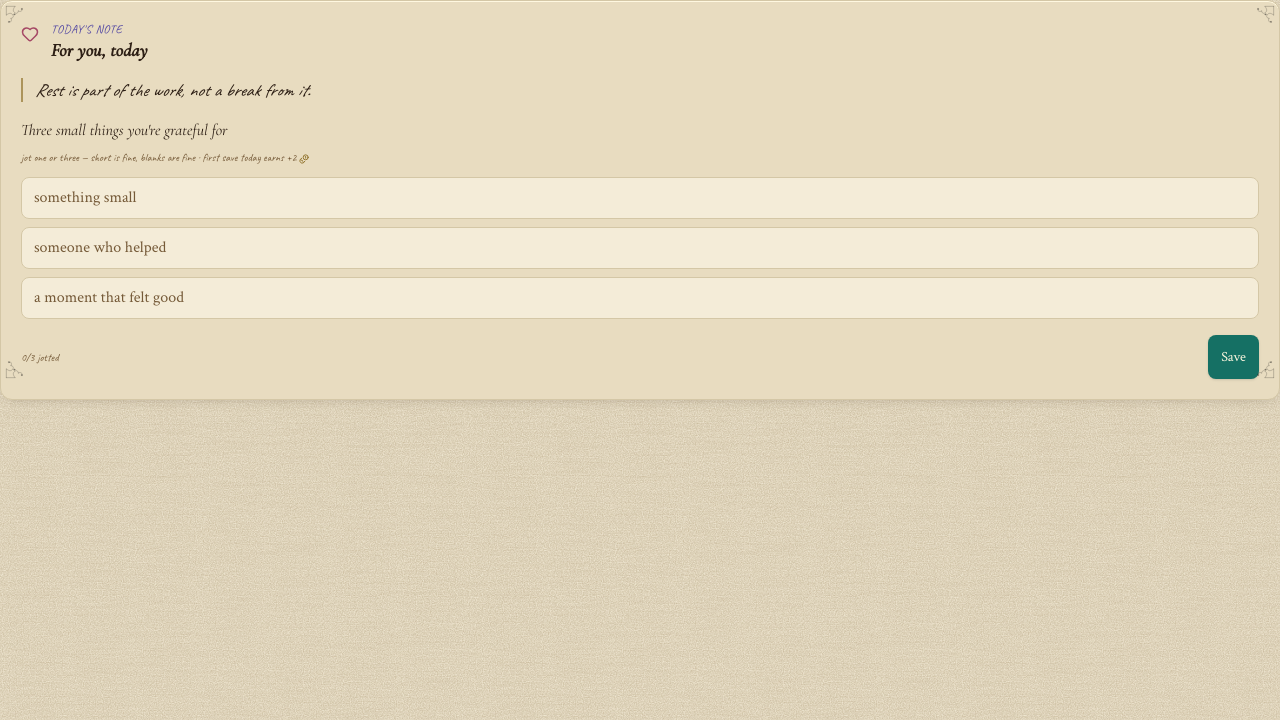
Test: WellbeingCard › Save POSTs the typed gratitude lines and shows a coin chip on first-of-day pay
This screenshot has width=1280, height=720.
Expected: the text "Rest is part of the work, not a break from it." is shown, x1=21 y1=78 x2=1259 y2=102
Type "warm bread" into the field with placeholder "something small". click: [640, 198]
box: x1=21 y1=177 x2=1259 y2=219
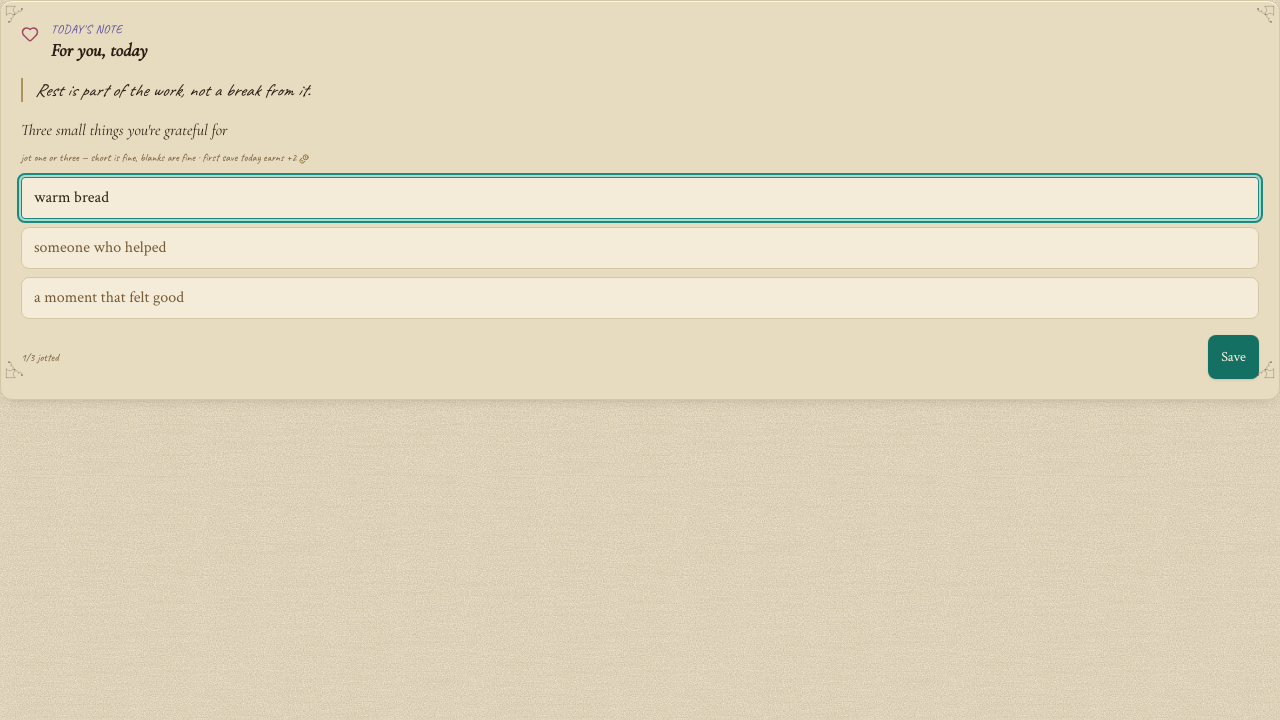
Type "a quiet morning" into the field with placeholder "a moment that felt good". click: [640, 298]
box: x1=21 y1=277 x2=1259 y2=319
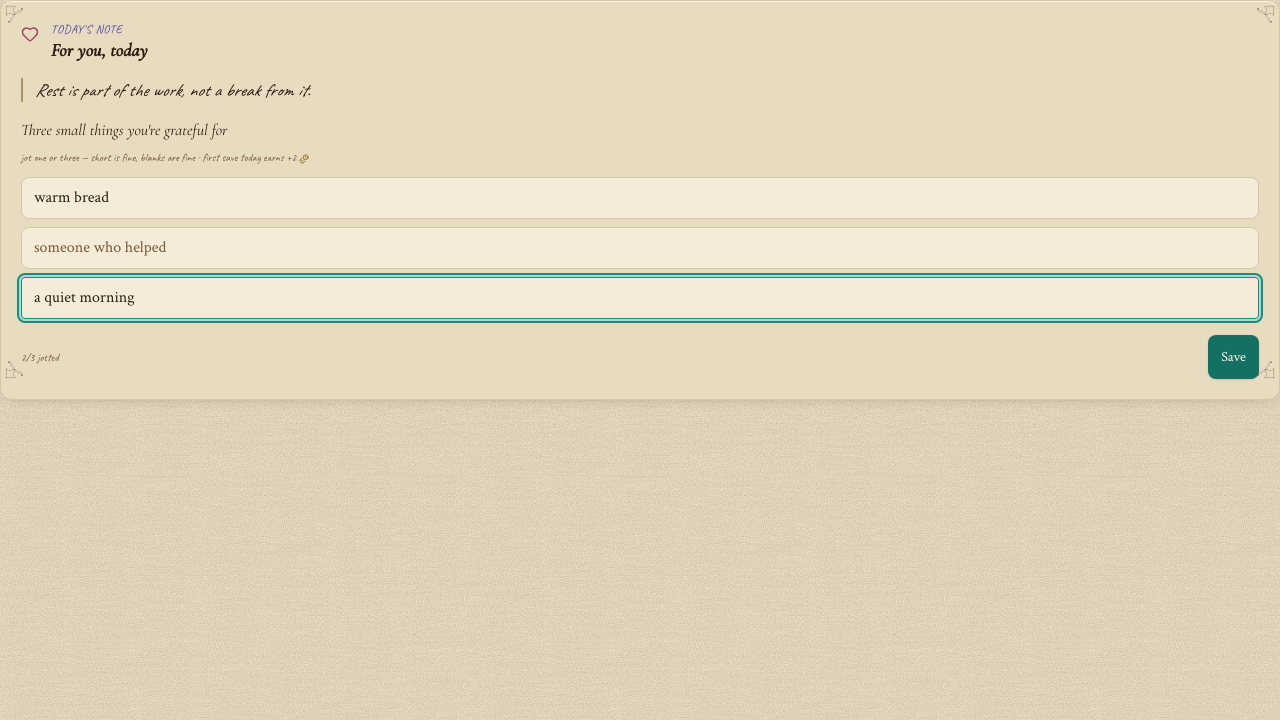
Click the button "Save". click: [1234, 357]
box: x1=1208 y1=335 x2=1259 y2=379
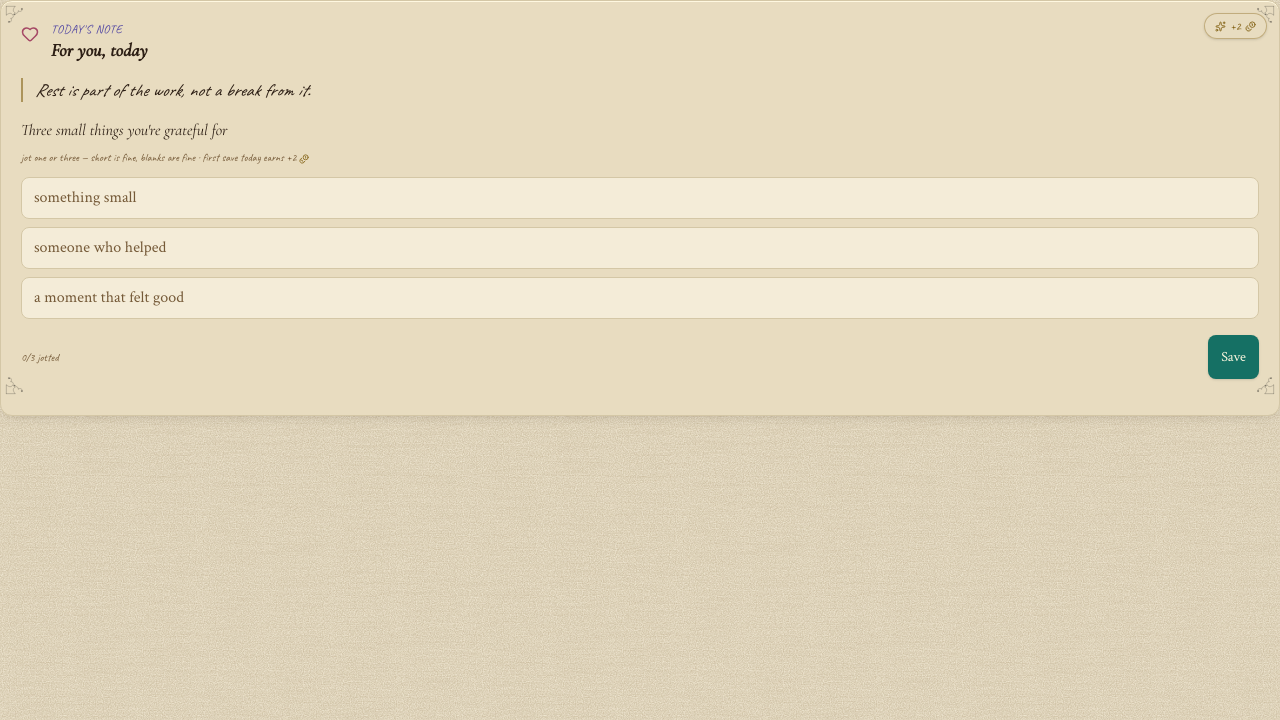
Now the message reads "+2", box x1=1204 y1=13 x2=1267 y2=39
